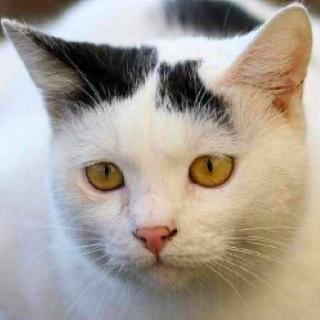cat: (2, 18, 316, 299)
nose: (131, 210, 178, 257)
